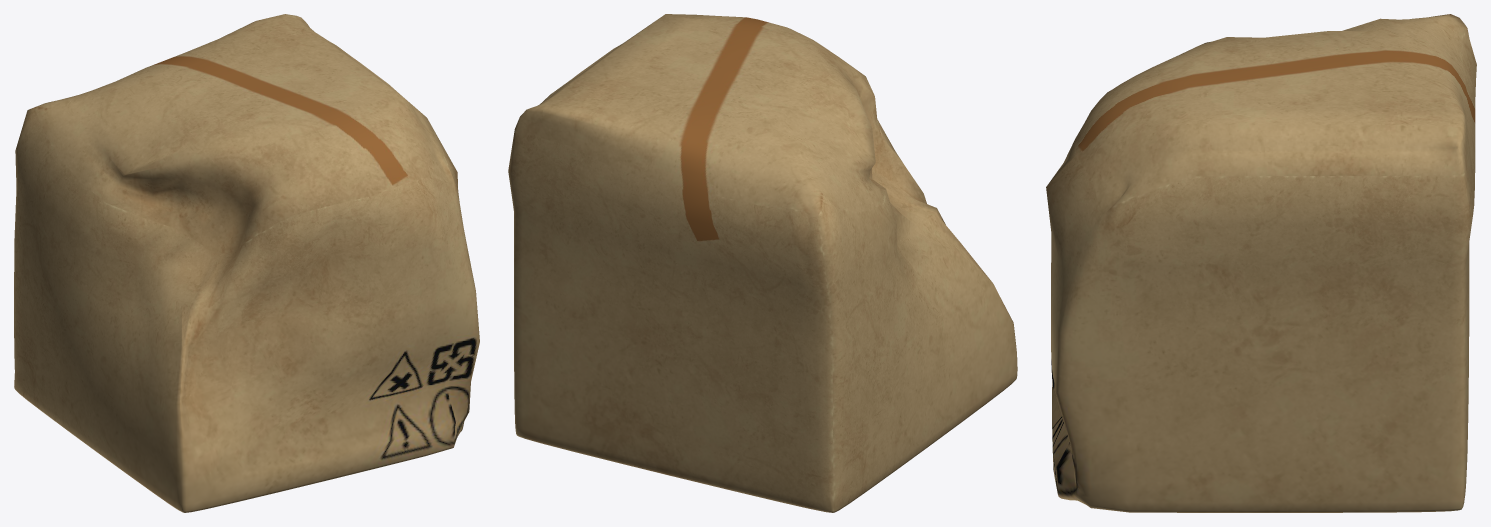
File: box_damaged.fbx
The picture shows the model from 3 angles, left to right: view 1: azimuth 30°, elevation 25°; view 2: azimuth 150°, elevation 25°; view 3: azimuth 270°, elevation 25°; orthographic projection. The views are drawn at different scales.
Parts seen in each view (by area): view 1: box_damaged; view 2: box_damaged; view 3: box_damaged.
Boxes of the visible parts, box(x1,y1,x2,y2) form: box_damaged: box(14, 14, 479, 512); box_damaged: box(508, 14, 1017, 512); box_damaged: box(1046, 14, 1476, 512).
Size of the model in its own units: 64.39 by 63.56 by 65.4.
